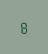eight: (19, 20, 27, 33)
